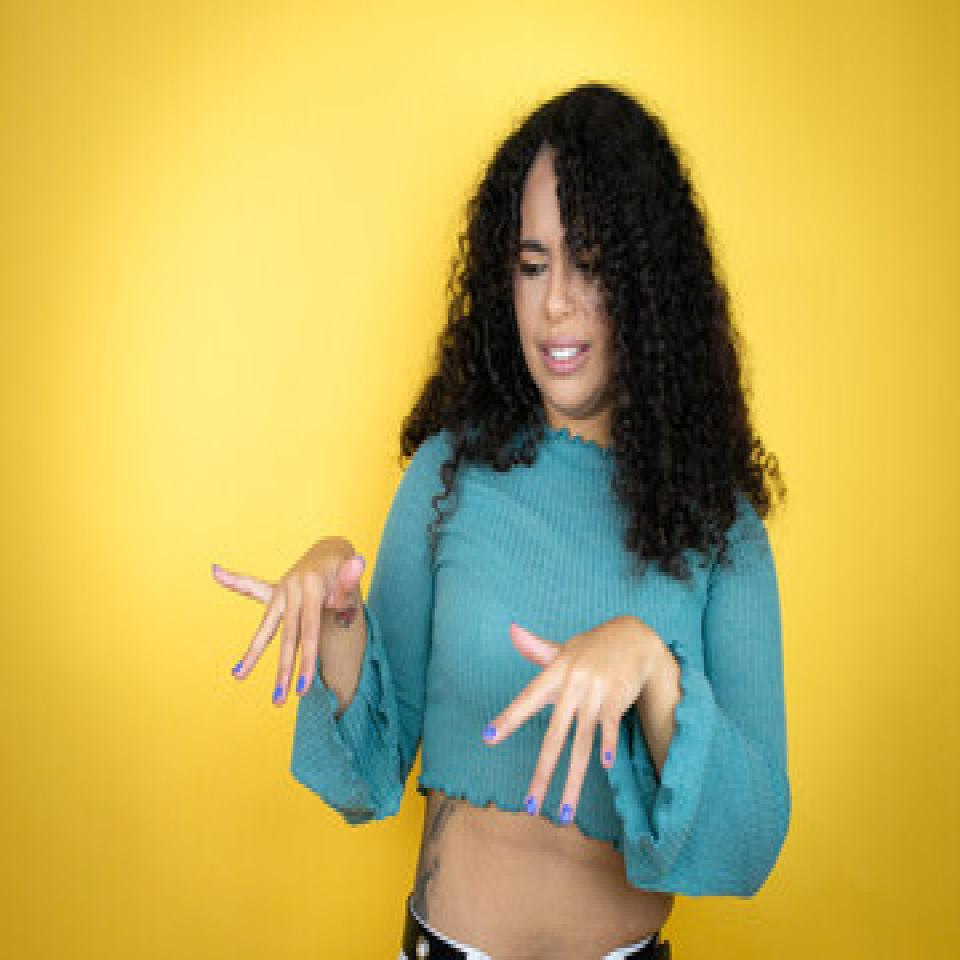Disgust: (514, 164, 658, 417)
